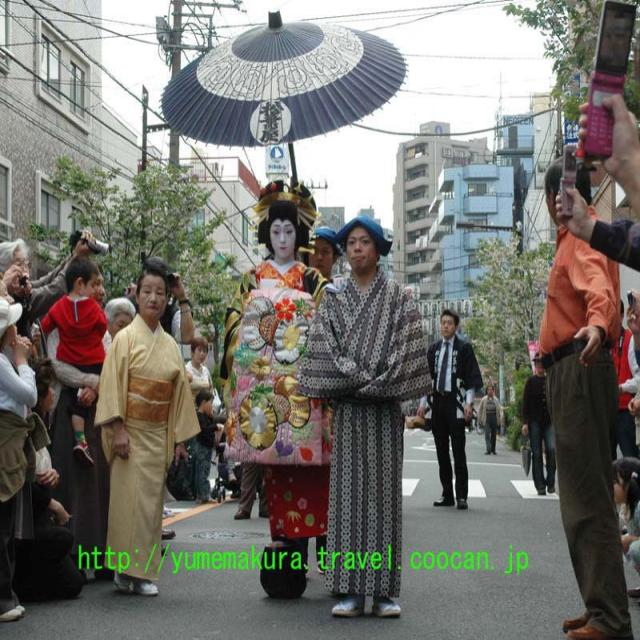body: (214, 176, 360, 616), (295, 211, 434, 621), (550, 0, 640, 605), (529, 151, 639, 639), (91, 254, 201, 600), (113, 249, 196, 582), (45, 262, 115, 559), (37, 256, 111, 472), (412, 304, 486, 514), (10, 360, 74, 593), (0, 295, 40, 625), (0, 228, 110, 345), (521, 349, 559, 496), (610, 299, 638, 463), (193, 388, 226, 506), (184, 335, 222, 413), (101, 294, 138, 355), (308, 226, 344, 282), (476, 384, 502, 456), (401, 384, 435, 434), (0, 271, 22, 312)
